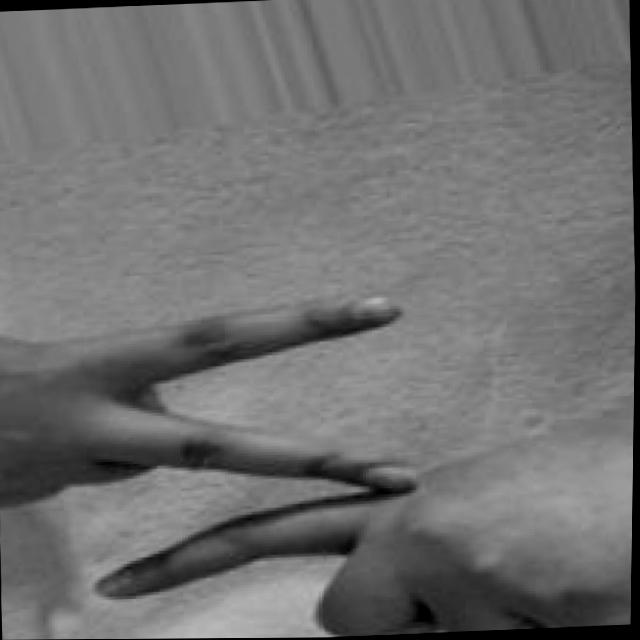Z: (0, 277, 636, 640)
